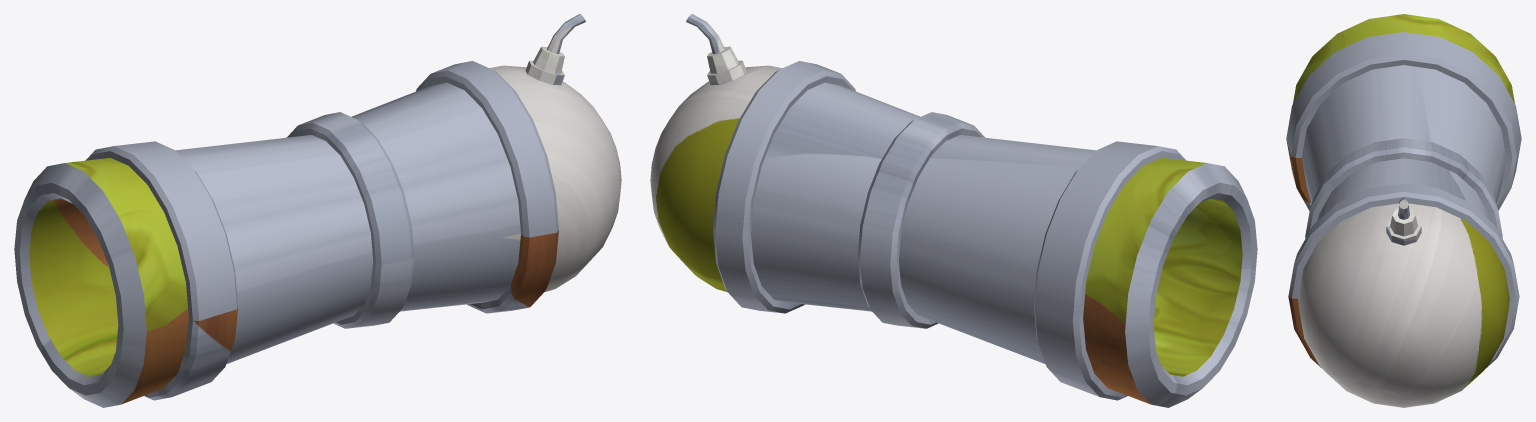
Rendered from PirateCannon.fbx.
3 renders of one model, left to right at view 1: azimuth 30°, elevation 25°; view 2: azimuth 150°, elevation 25°; view 3: azimuth 270°, elevation 25°, orthographic. The views are drawn at different scales.
Visible parts, largest first — view 1: PirateCannon; view 2: PirateCannon; view 3: PirateCannon.
Boxes of the visible parts, x1,y1,x2,y2 form: PirateCannon: [14, 14, 621, 407]; PirateCannon: [650, 14, 1257, 407]; PirateCannon: [1286, 14, 1521, 407].
Size of the model in its own units: 143 by 68.21 by 60.13.
Materials: 1 (1 with a texture image).
